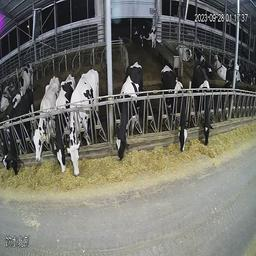cow: (69, 58, 101, 179), (115, 54, 147, 174), (158, 65, 191, 160), (11, 88, 34, 181), (55, 68, 73, 182), (35, 69, 56, 166), (193, 62, 212, 150), (132, 24, 159, 52), (0, 106, 10, 176), (17, 58, 34, 90), (212, 49, 227, 83), (177, 41, 193, 70)
